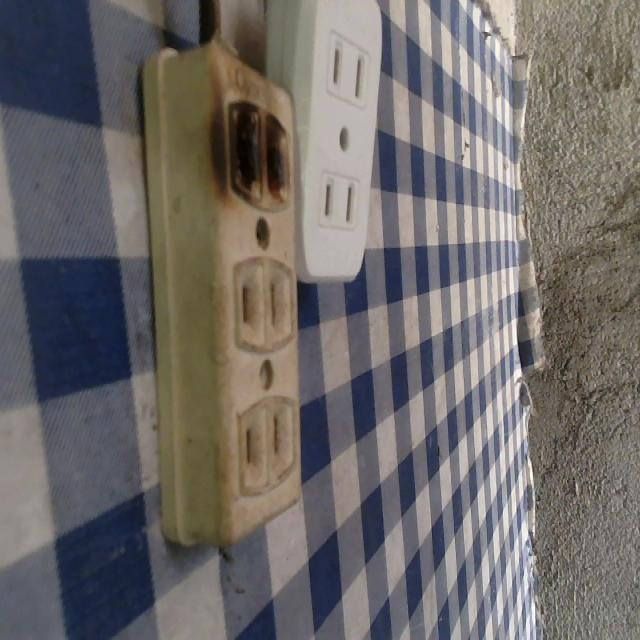-: (210, 87, 307, 201)
